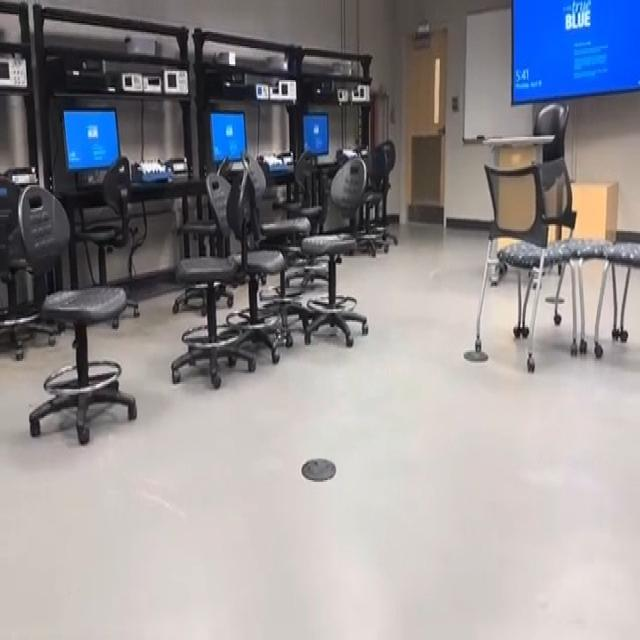drone: (258, 304, 299, 364)
